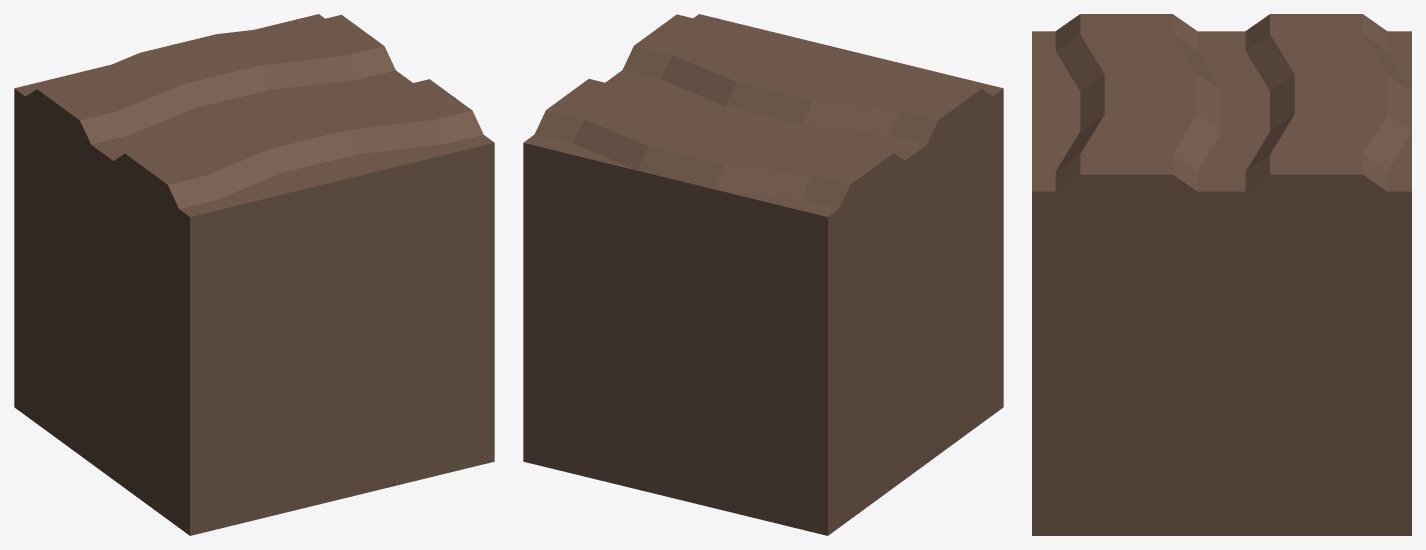
The model's file is blockFarmland.fbx.
3 views of the same model, side by side, from view 1: azimuth 30°, elevation 25°; view 2: azimuth 150°, elevation 25°; view 3: azimuth 270°, elevation 25° (orthographic). The views are drawn at different scales.
Visible parts, largest first — view 1: blockFarmland; view 2: blockFarmland; view 3: blockFarmland.
Part boxes in pixels (x1=…): blockFarmland: x1=14, y1=14, x2=494, y2=535; blockFarmland: x1=523, y1=14, x2=1003, y2=535; blockFarmland: x1=1032, y1=14, x2=1411, y2=535.
Bounding box in the file's own units: 100 × 105 × 100.
